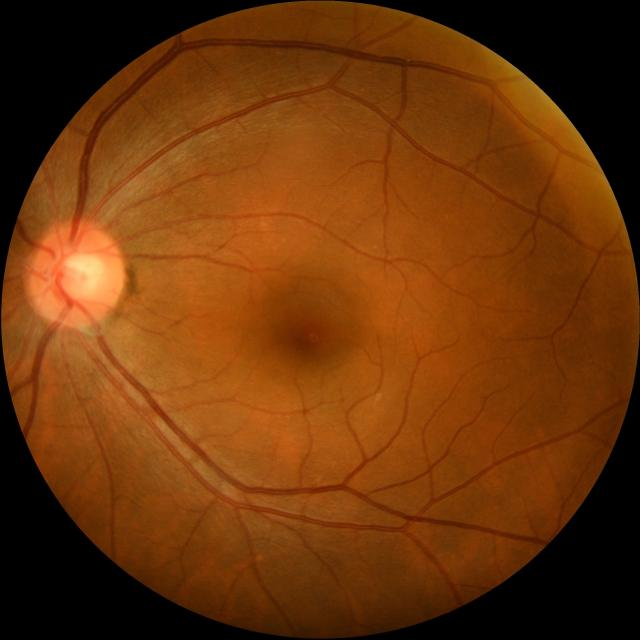OC: (54, 247, 106, 302)
OD: (28, 221, 124, 328)
